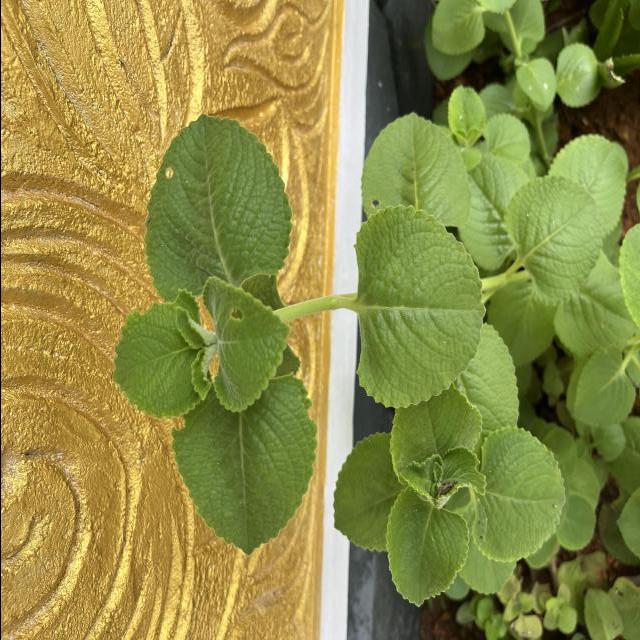Plectranthus barbatus: (140, 110, 294, 304), (168, 368, 318, 558), (351, 203, 486, 410), (469, 424, 566, 564), (502, 174, 602, 307), (109, 288, 208, 419), (200, 274, 291, 414), (359, 111, 471, 224), (384, 488, 468, 608), (330, 430, 390, 552), (571, 344, 636, 428)
